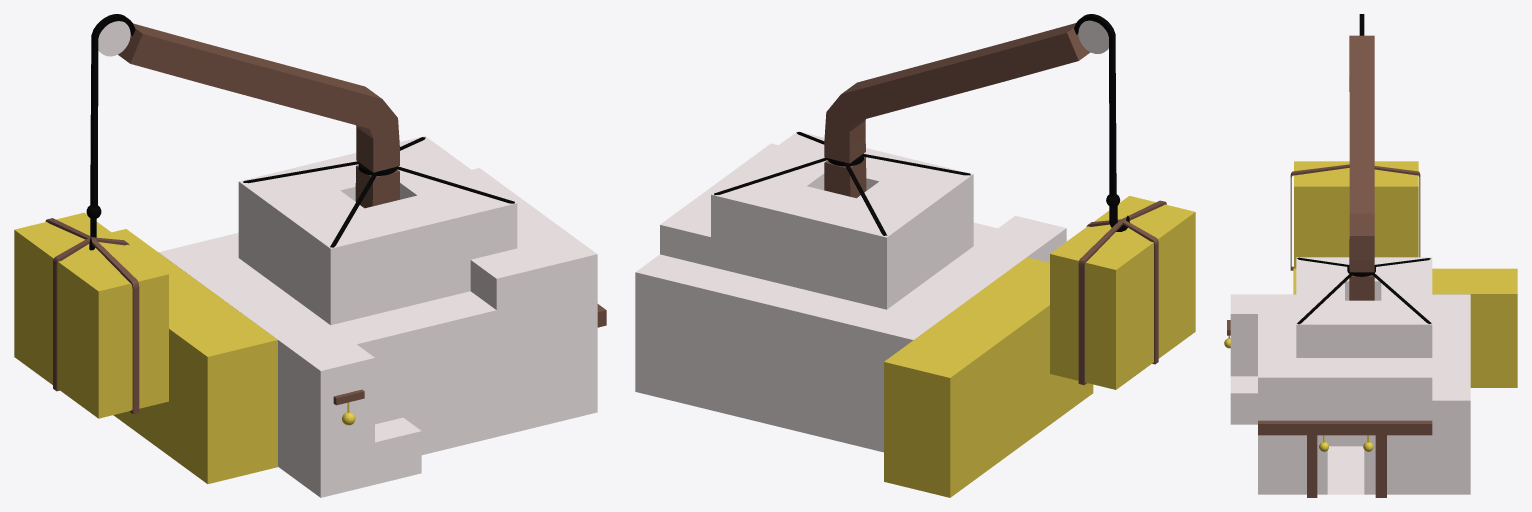
Rendered from carrara_quarry.fbx.
3 views of the same model, side by side, from view 1: azimuth 30°, elevation 25°; view 2: azimuth 150°, elevation 25°; view 3: azimuth 270°, elevation 25° (orthographic). The views are drawn at different scales.
Visible parts, largest first — view 1: carrara_quarry; view 2: carrara_quarry; view 3: carrara_quarry.
Boxes of the visible parts, left/top/right/bottom form: carrara_quarry: left=14, top=14, right=606, bottom=497; carrara_quarry: left=635, top=14, right=1195, bottom=497; carrara_quarry: left=1224, top=14, right=1517, bottom=497.
Bounding box in the file's own units: 1614 × 1413 × 1139.
